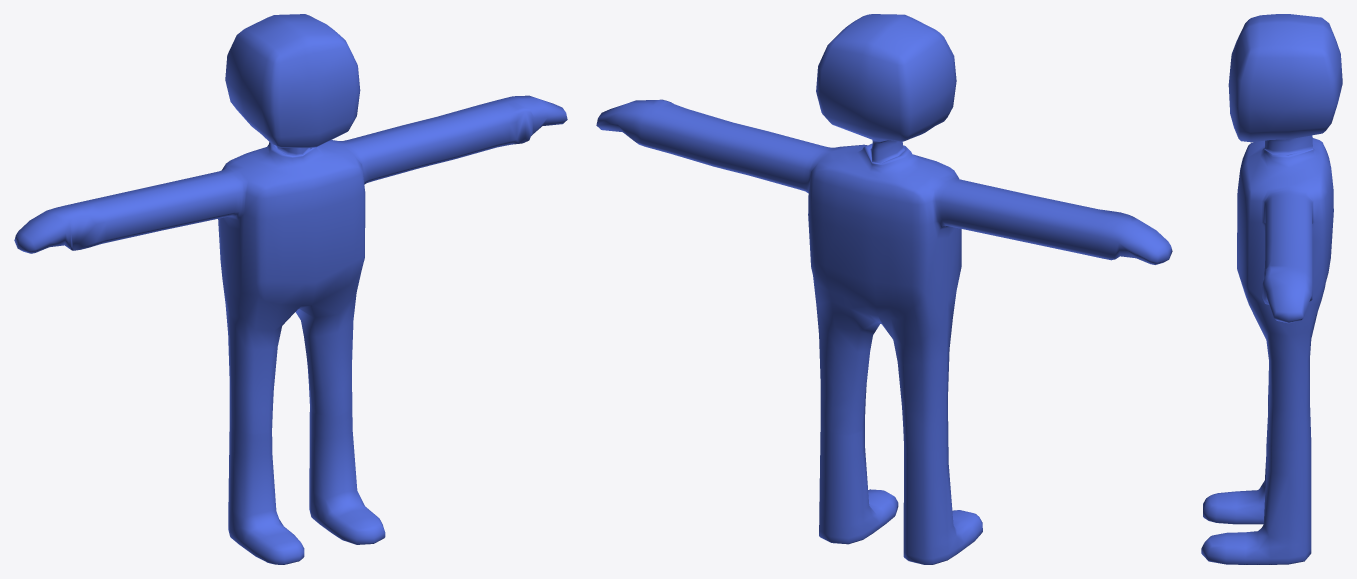
Rendered from MD_kartperson.fbx.
3 renders of one model, left to right at view 1: azimuth 30°, elevation 25°; view 2: azimuth 150°, elevation 25°; view 3: azimuth 270°, elevation 25°, orthographic. The views are drawn at different scales.
Visible parts, largest first — view 1: Cubo.003; view 2: Cubo.003; view 3: Cubo.003.
Part boxes in pixels (left/top/right/bottom): Cubo.003: left=14, top=14, right=567, bottom=564; Cubo.003: left=596, top=14, right=1172, bottom=564; Cubo.003: left=1201, top=14, right=1342, bottom=564.
Size of the model in its own units: 180 by 157 by 39.24.
